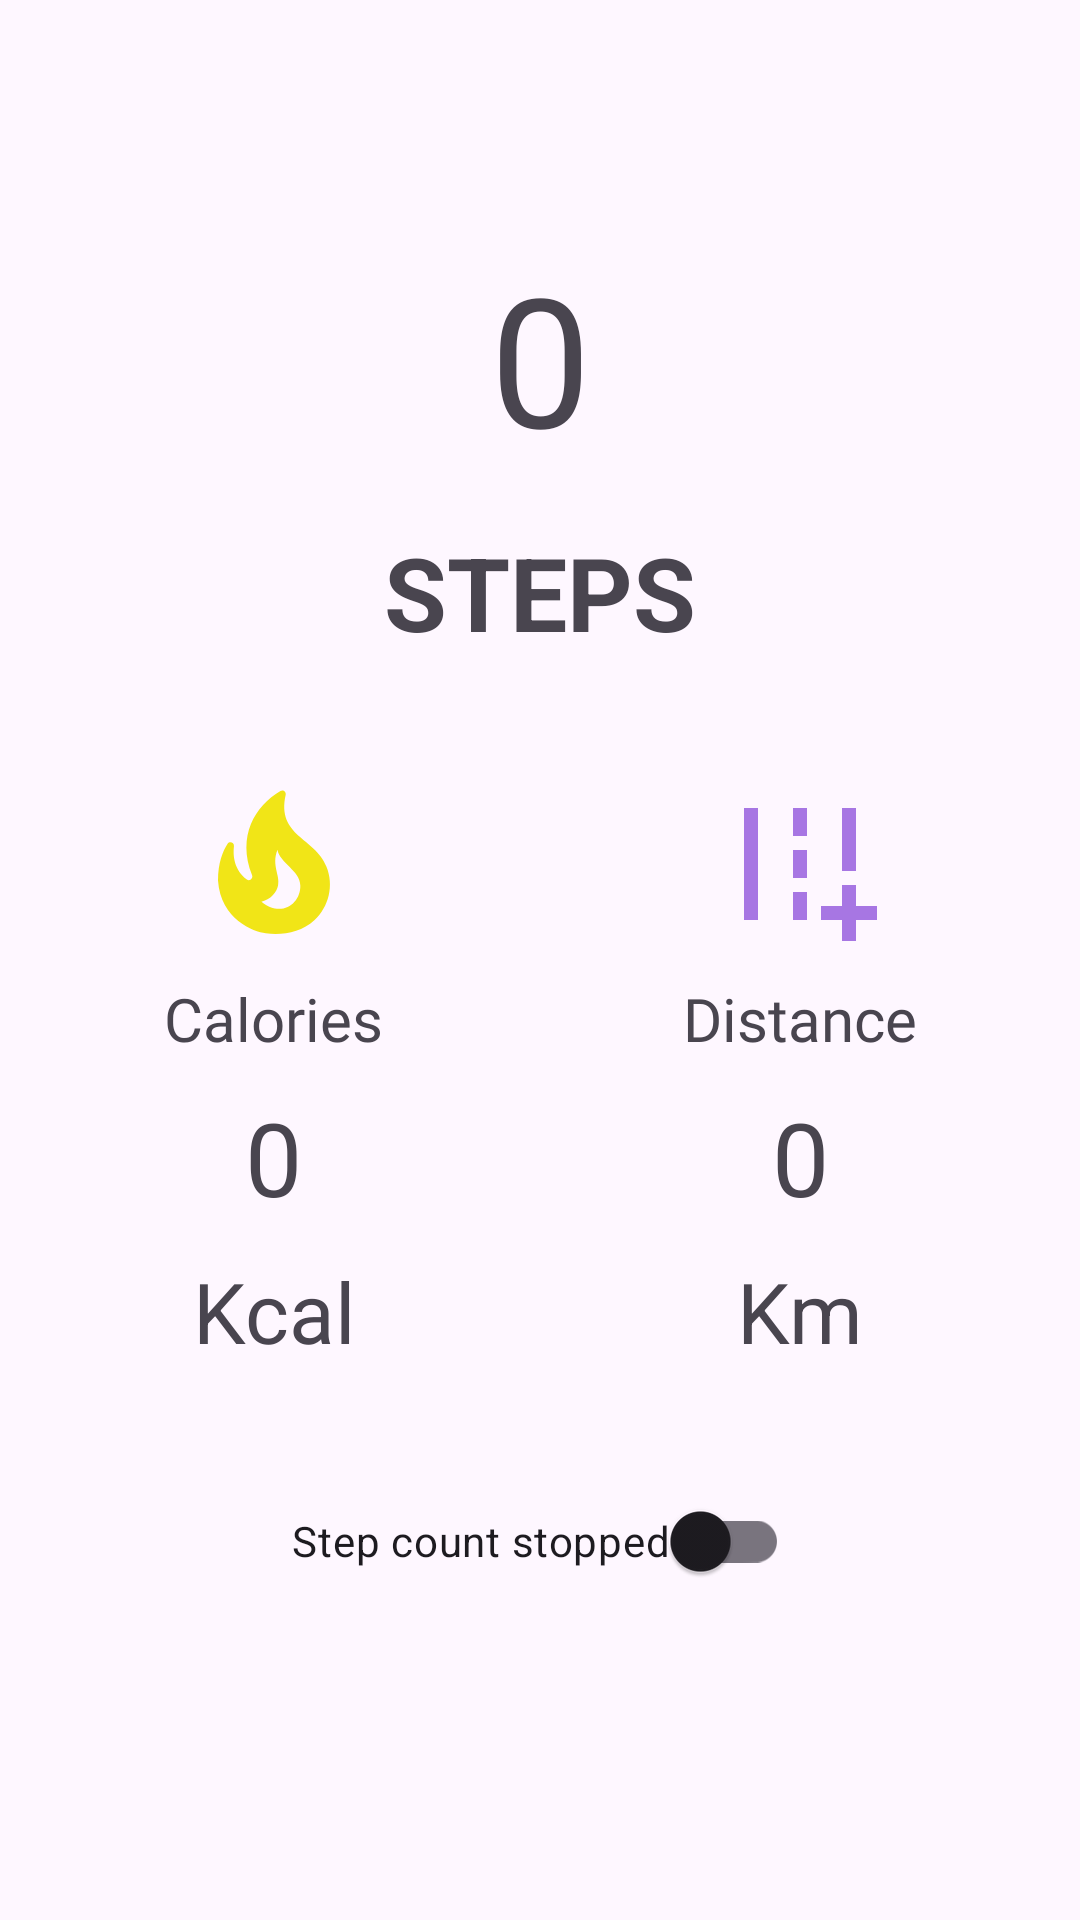

Where icons sit on this 1080×1920 app screen, as (x1, y1, x2, y2):
add road: (744, 808, 877, 941)
local fire department: (218, 790, 330, 934)
